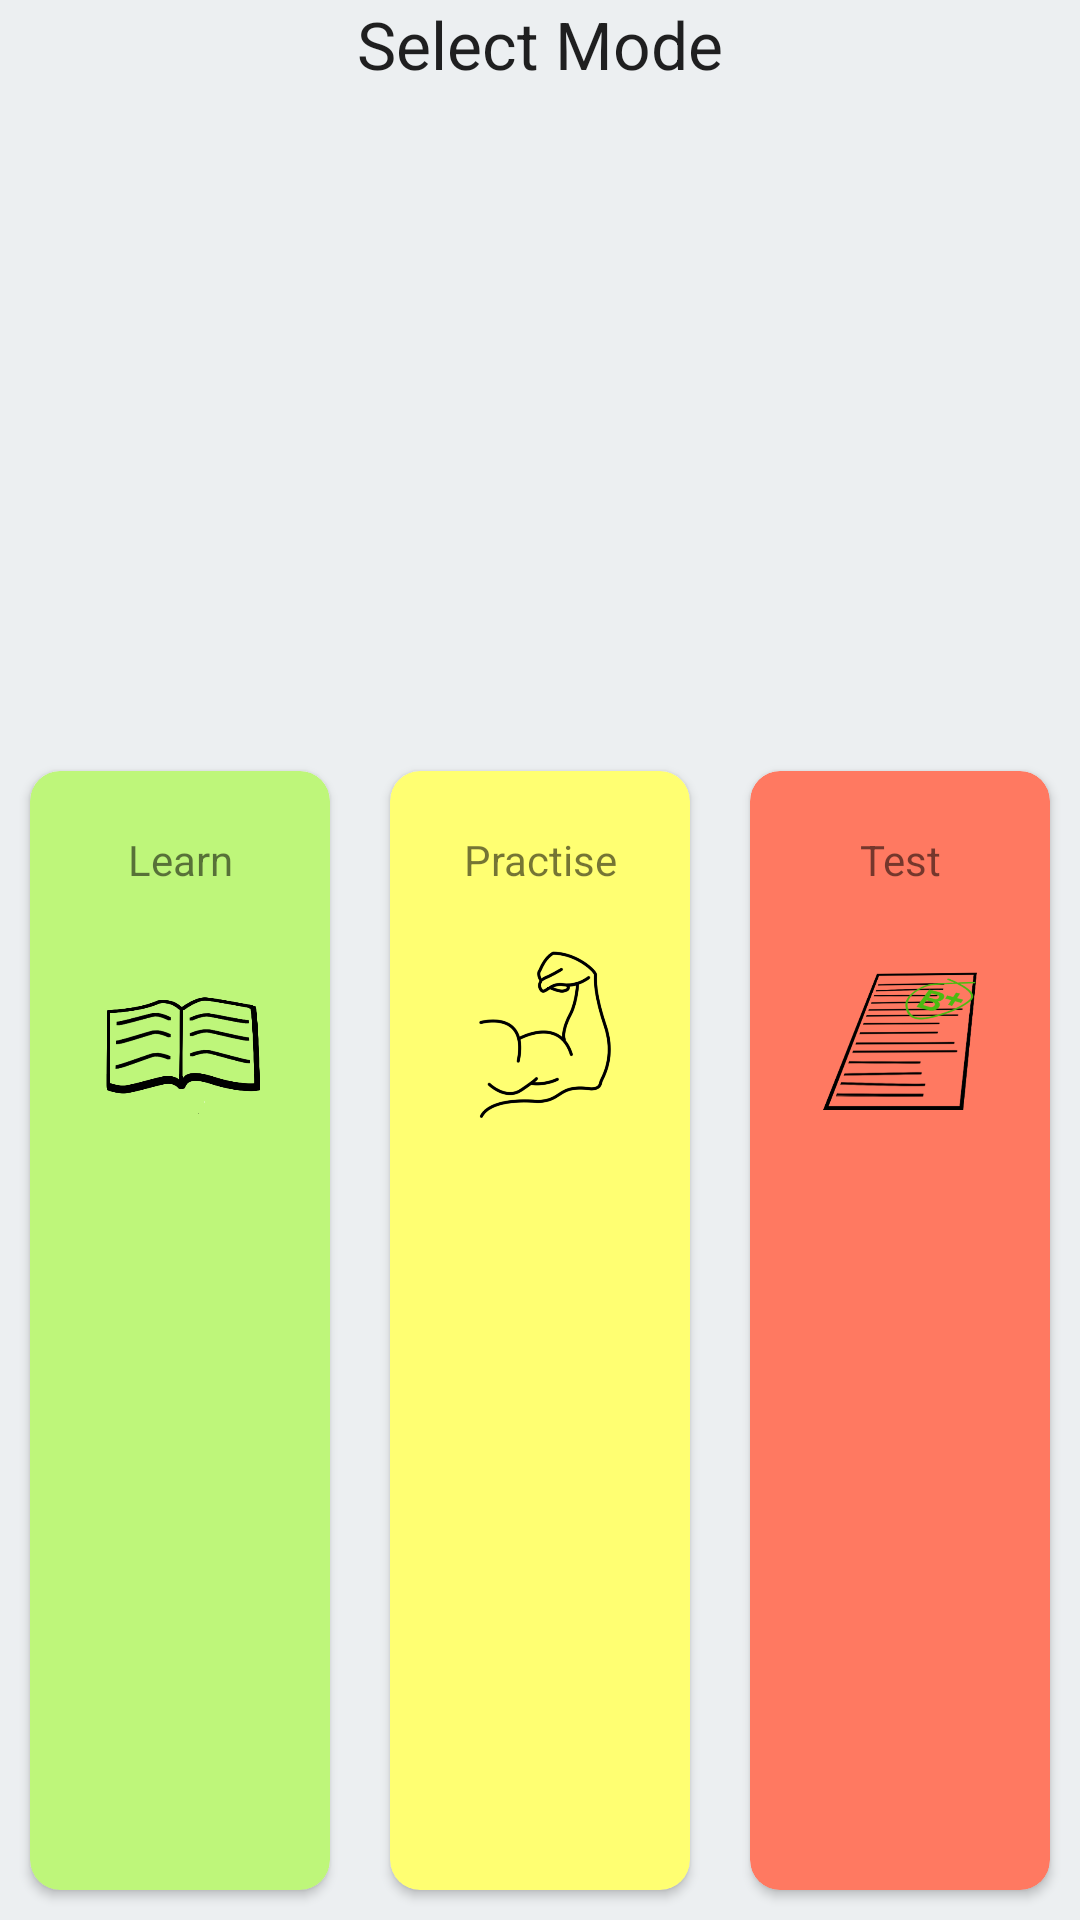

Locate icon controls on the screen. Image size 1080px×1920px, boxes as box=[x1, y1, x2, y2].
book: box=[106, 997, 260, 1114]
muscle: box=[479, 951, 611, 1118]
